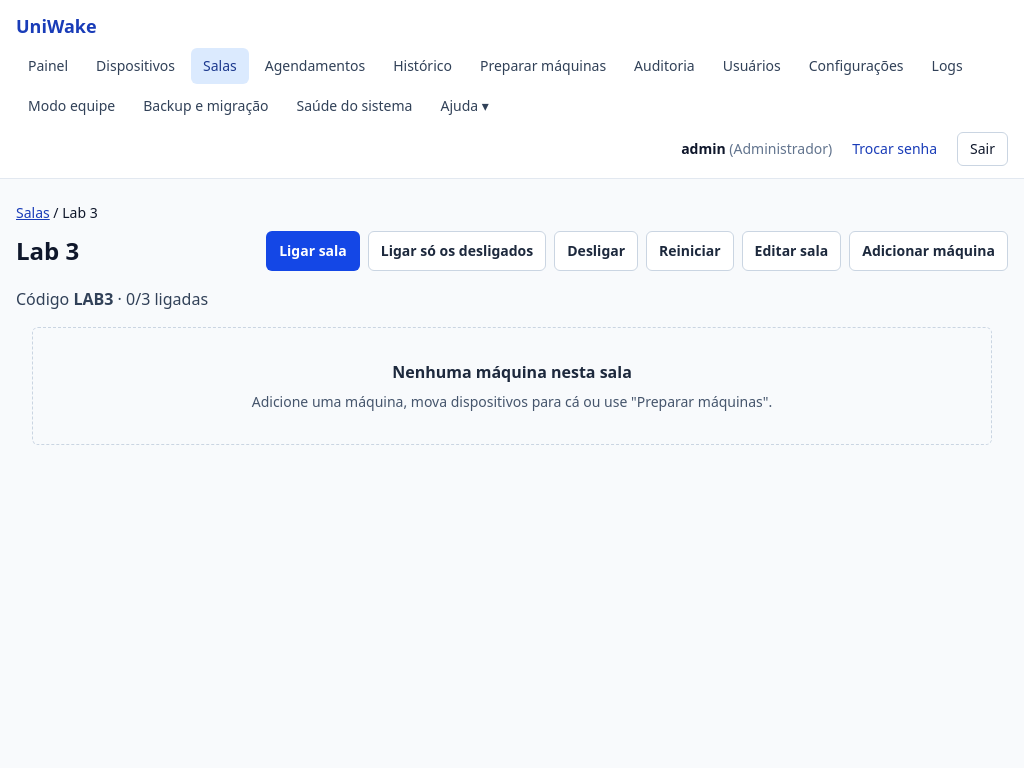
it: wake flow (FR-003.3, FR-009) › "Ligar sala" previews, starts and opens the live progress drawer
The image size is (1024, 768).
Click the button "Ligar sala" at (313, 251), box [266,231,360,271]
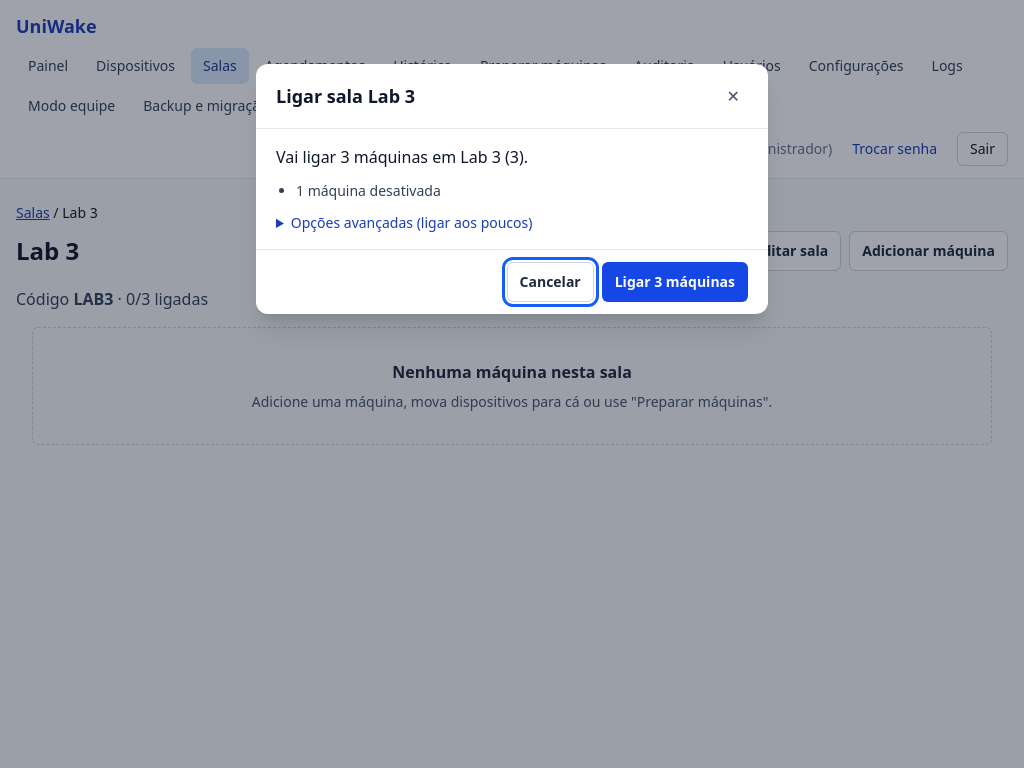
Now the text "Vai ligar 3 máquinas em Lab 3 (3)." is shown, box [276,146,528,168]
Now the list item "1 máquina desativada" is shown, box [296,181,441,200]
Click the button "Ligar 3 máquinas" at (675, 282), box [602,262,748,302]
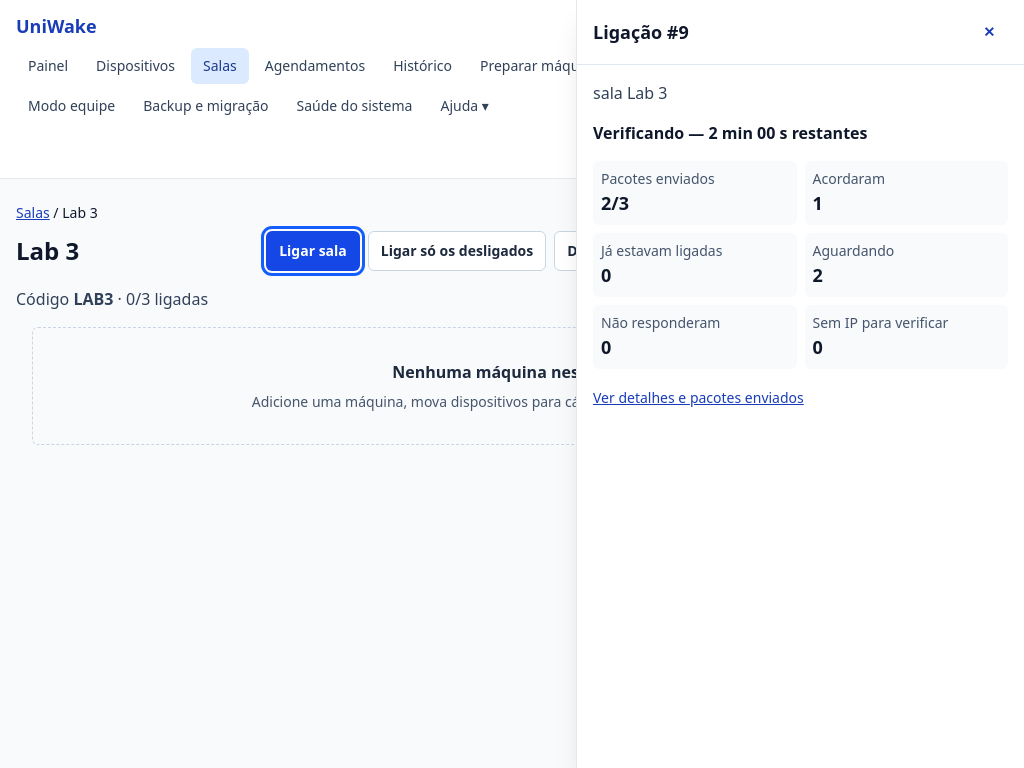
Now the text "Verificando — 2 min 00 s restantes" is shown, box [593,122,868,144]
Now the text "2/3" is shown, box [601,191,629,215]
